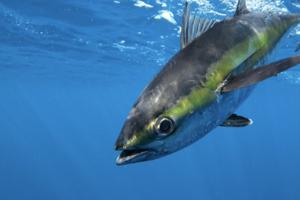Scombridae -Tunas-: (109, 0, 300, 168)
